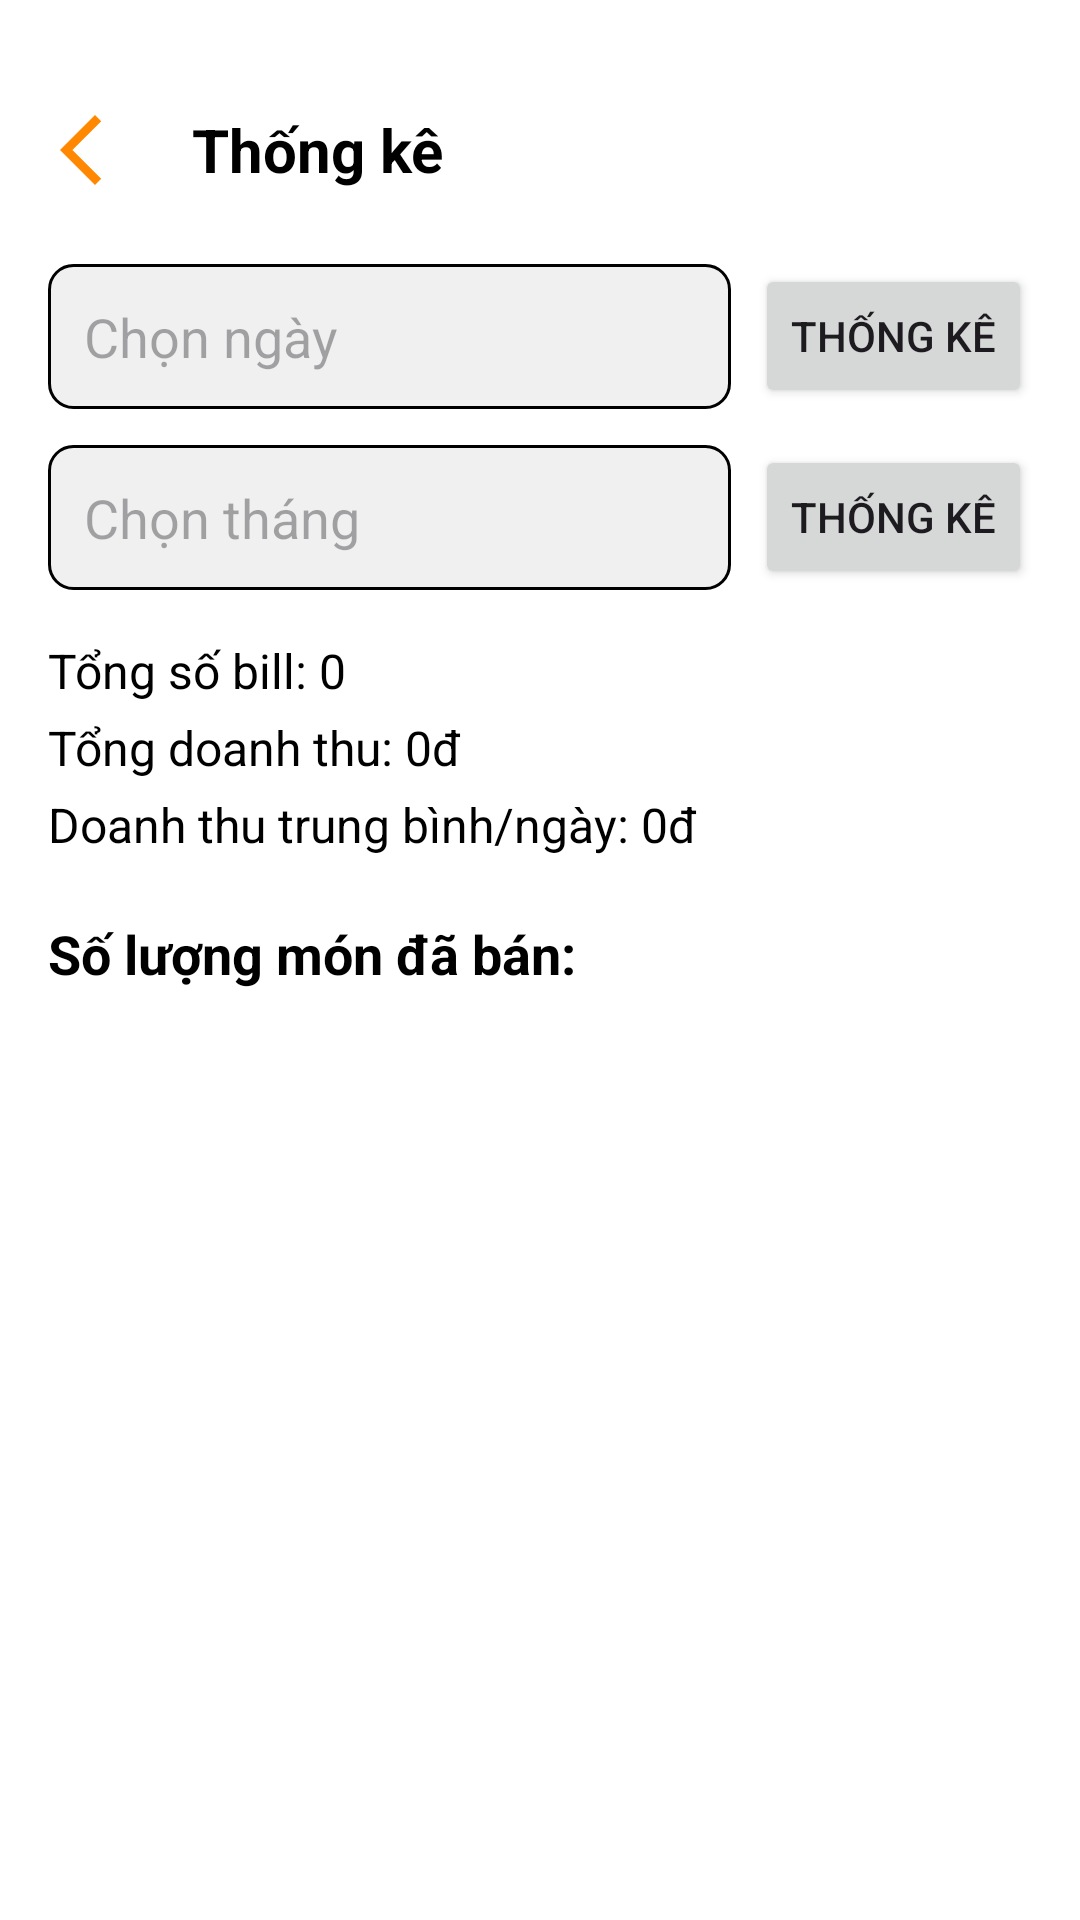

Named icons in this screenshot (1080 × 1920) and their bounding boxes, (x1, y1, x2, y2):
Back: (60, 115, 101, 185)
